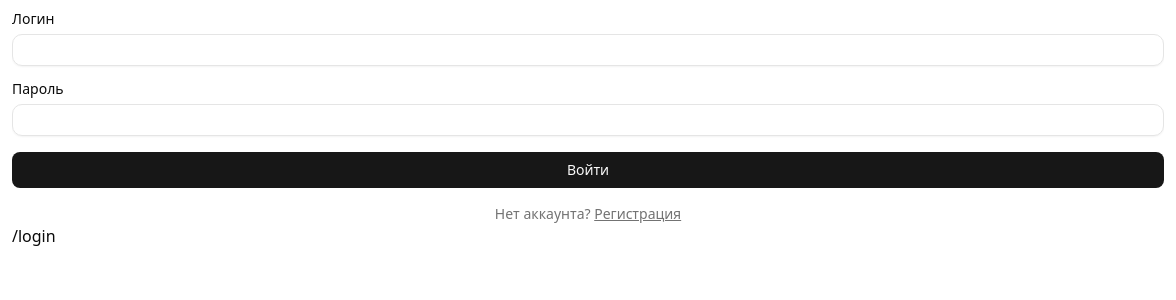
Test case: LoginForm › показывает общую ошибку при неверных учётных данных, не привязанную к полю
In the field labelled "Логин": (588, 50) [12, 34, 1164, 66], type "wronguser"
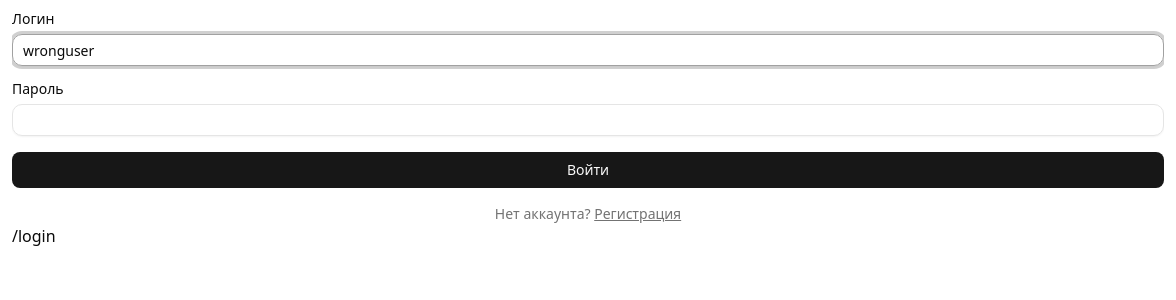
In the password field labelled "Пароль": (588, 120) [12, 104, 1164, 136], type "whatever"
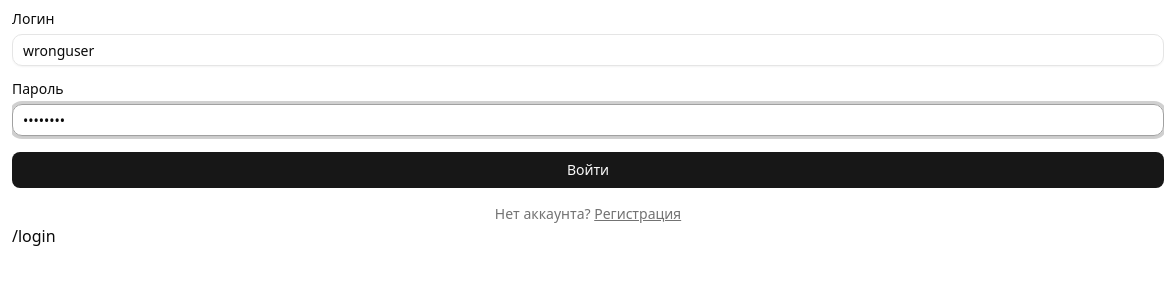
Click the button "Войти": click(588, 170) [12, 152, 1164, 188]
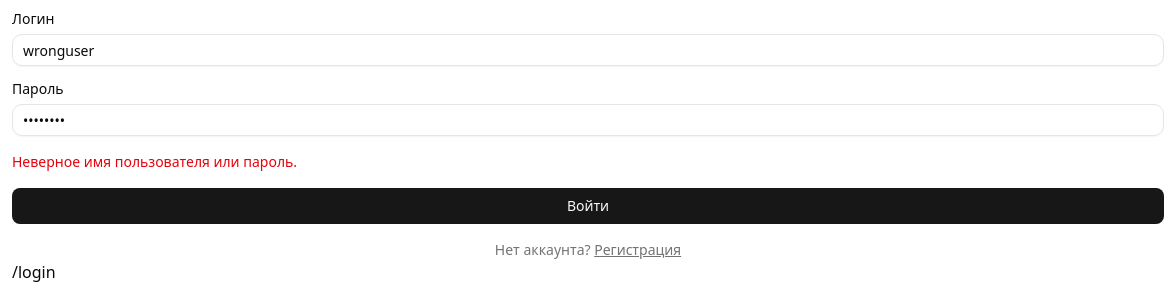
Check: the text with test id "location-probe" reads "/login", box [12, 261, 56, 283]
Check: the text "Неверное имя пользователя или пароль." is shown, box [12, 152, 297, 171]
